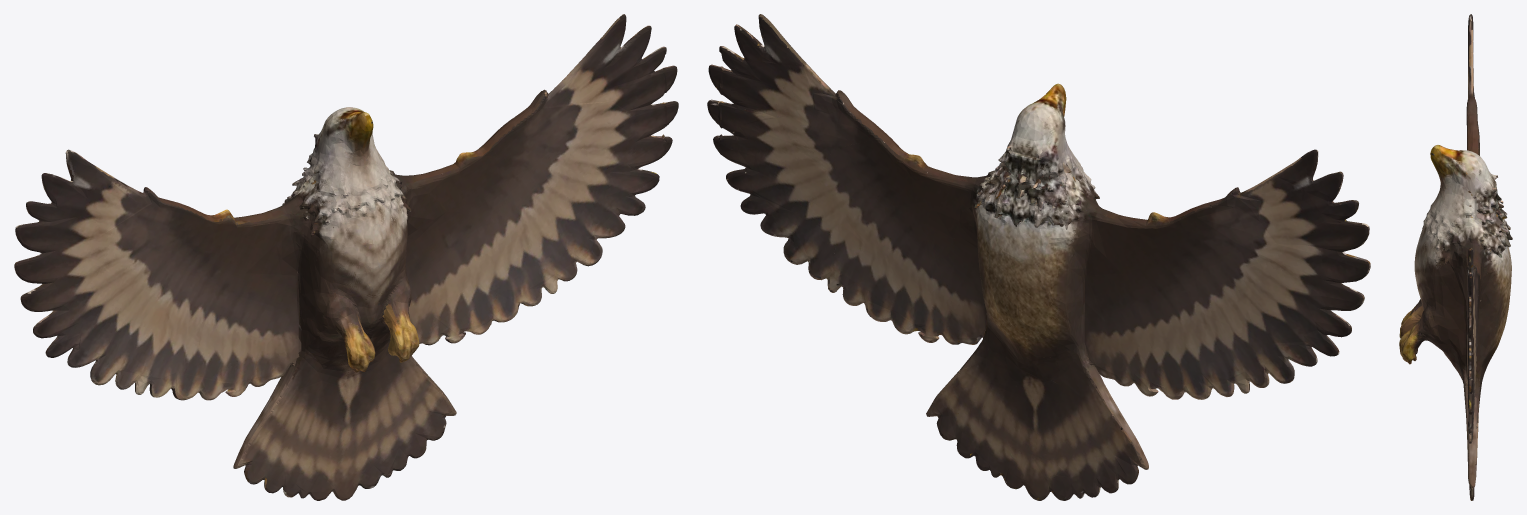
File: roc-hd.glb
The picture shows the model from 3 angles, left to right: view 1: azimuth 30°, elevation 25°; view 2: azimuth 150°, elevation 25°; view 3: azimuth 270°, elevation 25°; orthographic projection. The views are drawn at different scales.
Visible parts, largest first — view 1: tmpmba9s7f2.ply; view 2: tmpmba9s7f2.ply; view 3: tmpmba9s7f2.ply.
Boxes of the visible parts, x1=… form: tmpmba9s7f2.ply: x1=14, y1=14, x2=678, y2=500; tmpmba9s7f2.ply: x1=707, y1=14, x2=1370, y2=500; tmpmba9s7f2.ply: x1=1399, y1=14, x2=1512, y2=500.
Bounding box in the file's own units: 1.99 × 1.2 × 0.343.
1 material, 1 textured.
